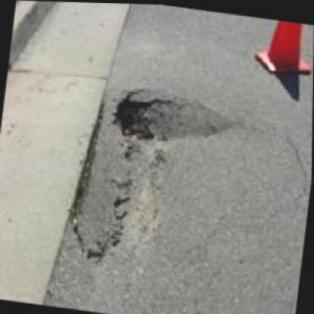Hueco: (62, 82, 146, 267), (108, 86, 236, 152)
